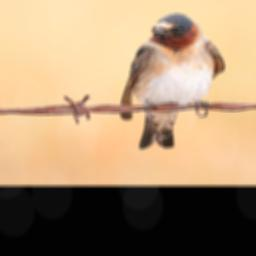Swallow: (120, 12, 226, 150)
